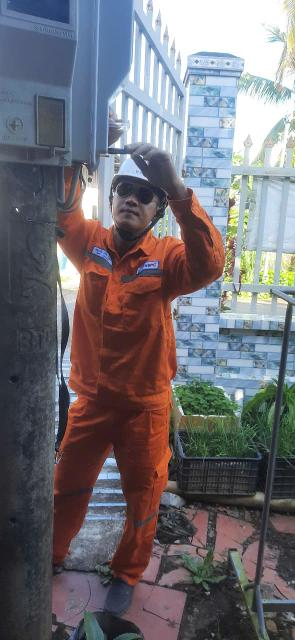helmet: (105, 141, 180, 202)
shoes: (97, 558, 142, 618)
